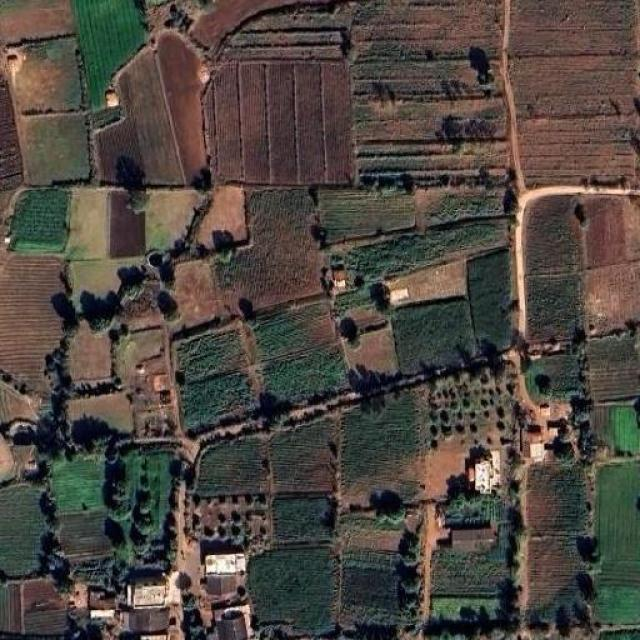land-Sx1C: (335, 0, 509, 191), (509, 0, 640, 187), (205, 60, 352, 184), (411, 366, 514, 499), (215, 188, 322, 310), (521, 462, 596, 635), (91, 49, 182, 184), (331, 219, 508, 281), (102, 442, 176, 580), (254, 301, 346, 402), (0, 256, 64, 392), (341, 391, 421, 499), (525, 196, 581, 342), (71, 0, 145, 108), (156, 31, 208, 184), (176, 330, 252, 430), (189, 0, 338, 51), (221, 3, 356, 59), (595, 461, 640, 624), (115, 314, 174, 438), (249, 548, 335, 633), (391, 299, 475, 374), (5, 36, 81, 115), (69, 258, 149, 328), (19, 111, 90, 184), (320, 190, 414, 243), (270, 420, 334, 493), (468, 249, 512, 349), (415, 186, 503, 234), (0, 484, 45, 577), (196, 438, 265, 497), (585, 261, 640, 335), (192, 494, 269, 546), (342, 549, 399, 619), (1, 379, 39, 484), (385, 259, 466, 307), (0, 580, 68, 637), (344, 325, 399, 394), (586, 334, 640, 402), (11, 189, 69, 252), (433, 548, 509, 596), (68, 392, 132, 448), (195, 186, 249, 251), (0, 0, 74, 46), (424, 595, 505, 637), (146, 189, 202, 249), (174, 260, 222, 328), (65, 188, 109, 260), (59, 509, 111, 565), (52, 458, 104, 512), (68, 320, 111, 382), (586, 198, 625, 266), (0, 72, 22, 189), (525, 355, 580, 401), (274, 499, 334, 541), (591, 403, 640, 454), (344, 519, 402, 561), (109, 190, 145, 257), (615, 196, 640, 262), (332, 284, 372, 316)
